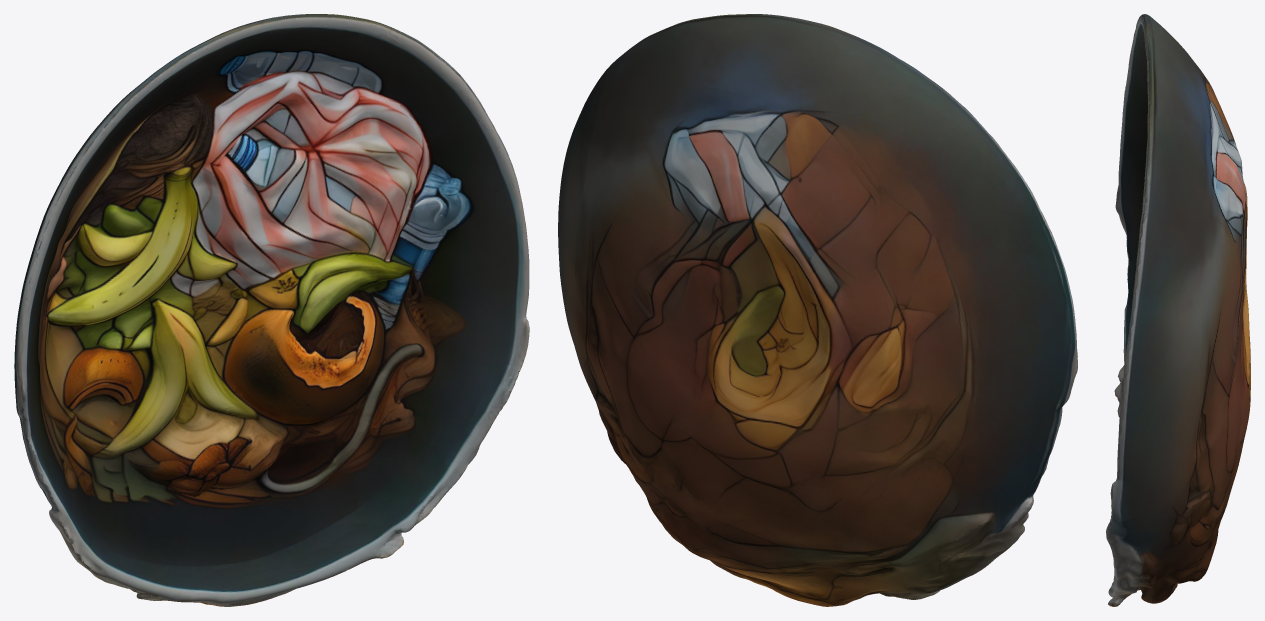
File: 03_stomach_inside.glb
3 views of the same model, side by side, from view 1: azimuth 30°, elevation 25°; view 2: azimuth 150°, elevation 25°; view 3: azimuth 270°, elevation 25° (orthographic). The views are drawn at different scales.
Parts seen in each view (by area): view 1: textured_mesh.obj; view 2: textured_mesh.obj; view 3: textured_mesh.obj.
Part boxes in pixels (left/top/right/bottom): textured_mesh.obj: left=14, top=14, right=529, bottom=606; textured_mesh.obj: left=558, top=14, right=1077, bottom=606; textured_mesh.obj: left=1106, top=14, right=1250, bottom=606.
Bounding box in the file's own units: 1.87 × 1.99 × 0.4864.
Materials: 1 (1 with a texture image).
